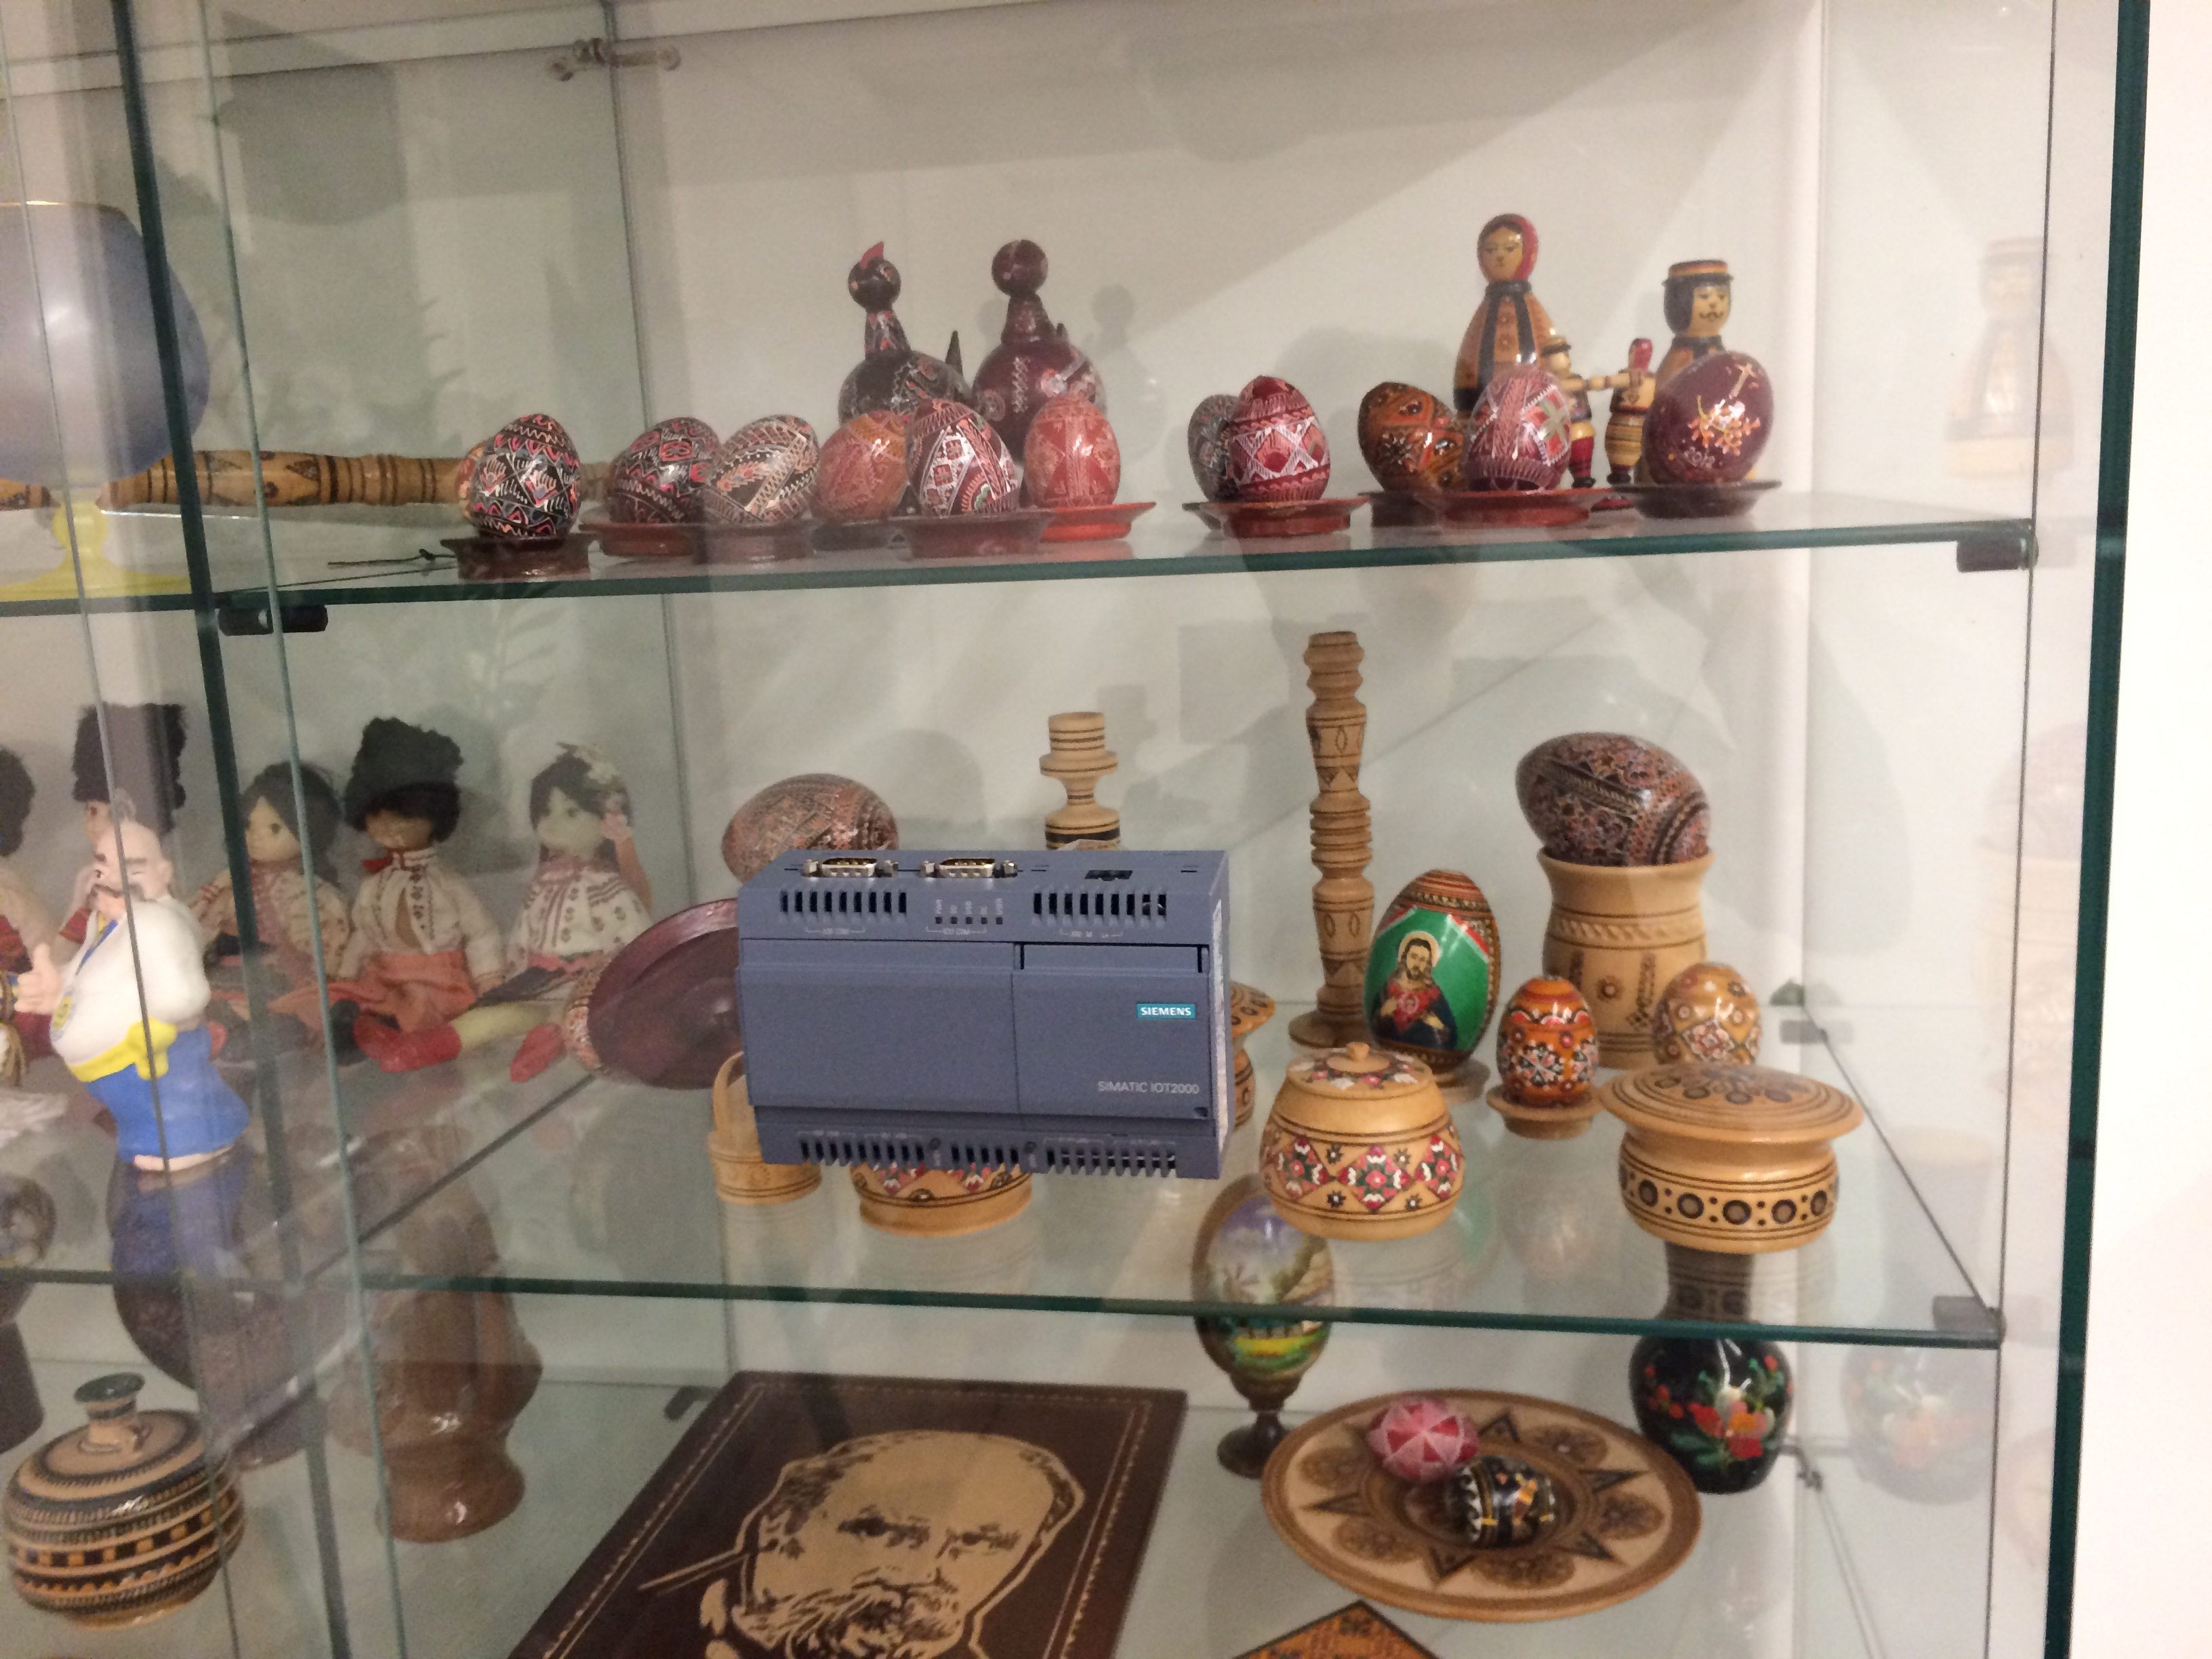iot2000: (733, 845, 1237, 1183)
